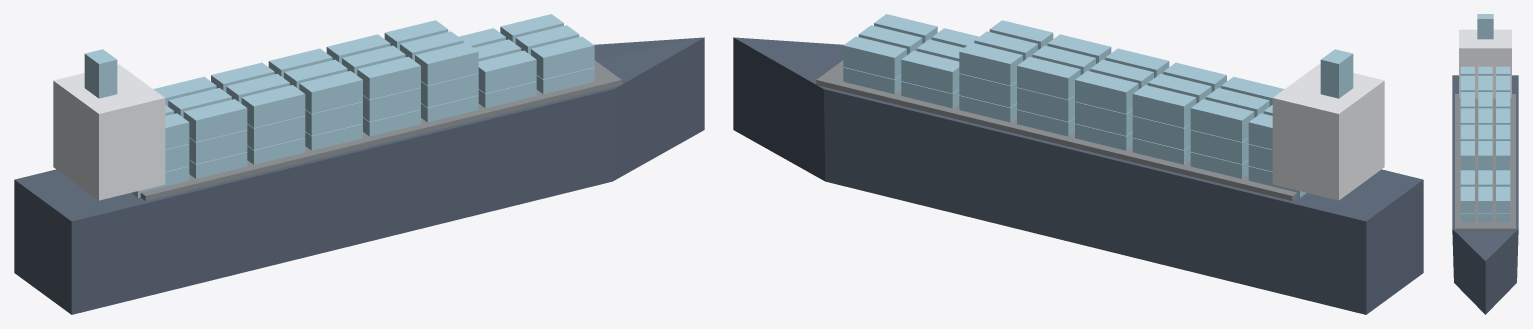
Rendered from container-maersk.glb.
3 views of the same model, side by side, from view 1: azimuth 30°, elevation 25°; view 2: azimuth 150°, elevation 25°; view 3: azimuth 270°, elevation 25° (orthographic). The views are drawn at different scales.
Visible parts, largest first — view 1: hull, house, deck, ctr20, ctr11, ctr61, ctr47, ctr38, ctr29, ctr55, funnel, ctr10 (+28 smaller); view 2: hull, house, deck, ctr26, ctr17, ctr65, ctr53, ctr44, ctr35, ctr59, funnel, ctr16 (+28 smaller); view 3: hull, deck, house, funnel, ctr50, ctr63, ctr47, ctr53, ctr61, ctr65, ctr14, ctr23 (+19 smaller).
Boxes of the visible parts, x1,y1,x2,y2 form: hull: [14, 37, 704, 314]; house: [53, 64, 165, 200]; deck: [140, 60, 621, 200]; ctr20: [241, 85, 305, 127]; ctr11: [183, 99, 247, 141]; ctr61: [531, 36, 594, 79]; ctr47: [415, 42, 478, 85]; ctr38: [357, 56, 420, 99]; ctr29: [299, 71, 362, 113]; ctr55: [478, 50, 536, 93]; funnel: [84, 49, 117, 98]; ctr10: [189, 130, 247, 164]; hull: [733, 37, 1423, 314]; house: [1272, 64, 1384, 200]; deck: [816, 60, 1297, 200]; ctr26: [1132, 85, 1196, 127]; ctr17: [1190, 99, 1254, 141]; ctr65: [843, 36, 906, 79]; ctr53: [959, 42, 1022, 85]; ctr44: [1017, 56, 1080, 99]; ctr35: [1075, 71, 1138, 113]; ctr59: [901, 50, 959, 93]; funnel: [1320, 49, 1353, 98]; ctr16: [1190, 130, 1248, 164]; hull: [1452, 75, 1518, 314]; deck: [1455, 94, 1515, 231]; house: [1459, 29, 1511, 98]; funnel: [1477, 14, 1493, 39]; ctr50: [1478, 141, 1492, 168]; ctr63: [1478, 186, 1492, 213]; ctr47: [1460, 141, 1474, 168]; ctr53: [1496, 141, 1510, 168]; ctr61: [1460, 186, 1474, 213]; ctr65: [1496, 186, 1510, 213]; ctr14: [1478, 75, 1492, 91]; ctr23: [1478, 92, 1492, 108].
Bounding box in the file's own units: 80 × 25.8 × 12.
